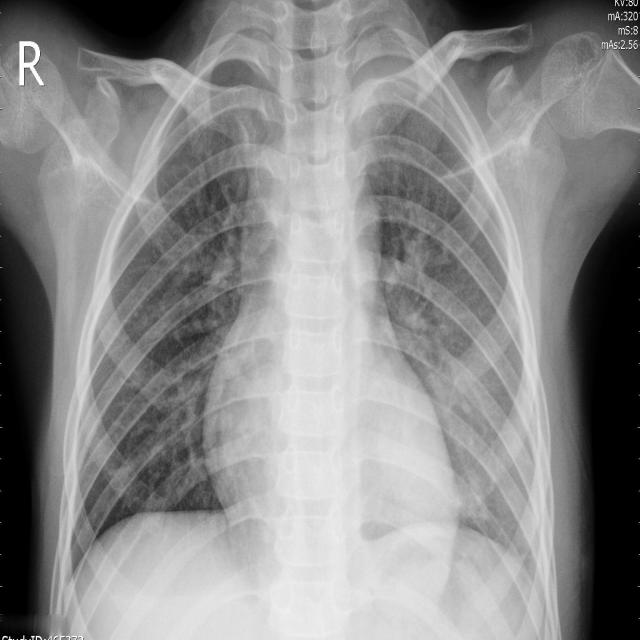low-pneumonia: (382, 233, 495, 518)
